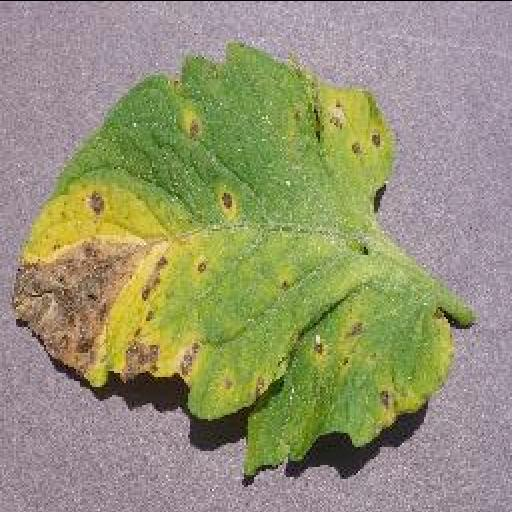disease_tomato: (10, 38, 450, 476)
